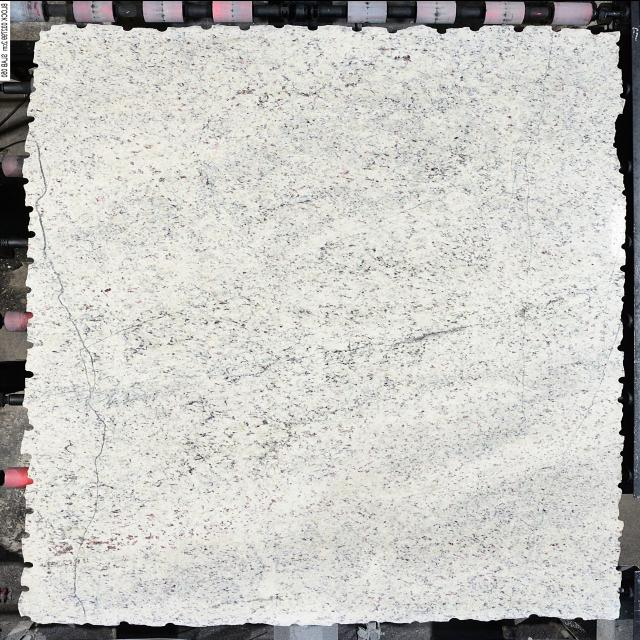chapa: (19, 24, 621, 623)
furo: (18, 17, 56, 49)
veio: (205, 588, 292, 612), (15, 110, 48, 126), (15, 448, 36, 468), (345, 20, 365, 36), (432, 23, 453, 38), (18, 502, 41, 515), (69, 17, 90, 31), (548, 20, 568, 34), (16, 366, 36, 380), (22, 335, 38, 352), (194, 19, 212, 34), (509, 22, 531, 34), (16, 526, 32, 542), (466, 20, 484, 34), (18, 557, 36, 571), (18, 202, 38, 214), (22, 226, 38, 240), (20, 253, 38, 265), (120, 22, 136, 34), (300, 22, 320, 31), (233, 22, 250, 32), (20, 422, 38, 430)
